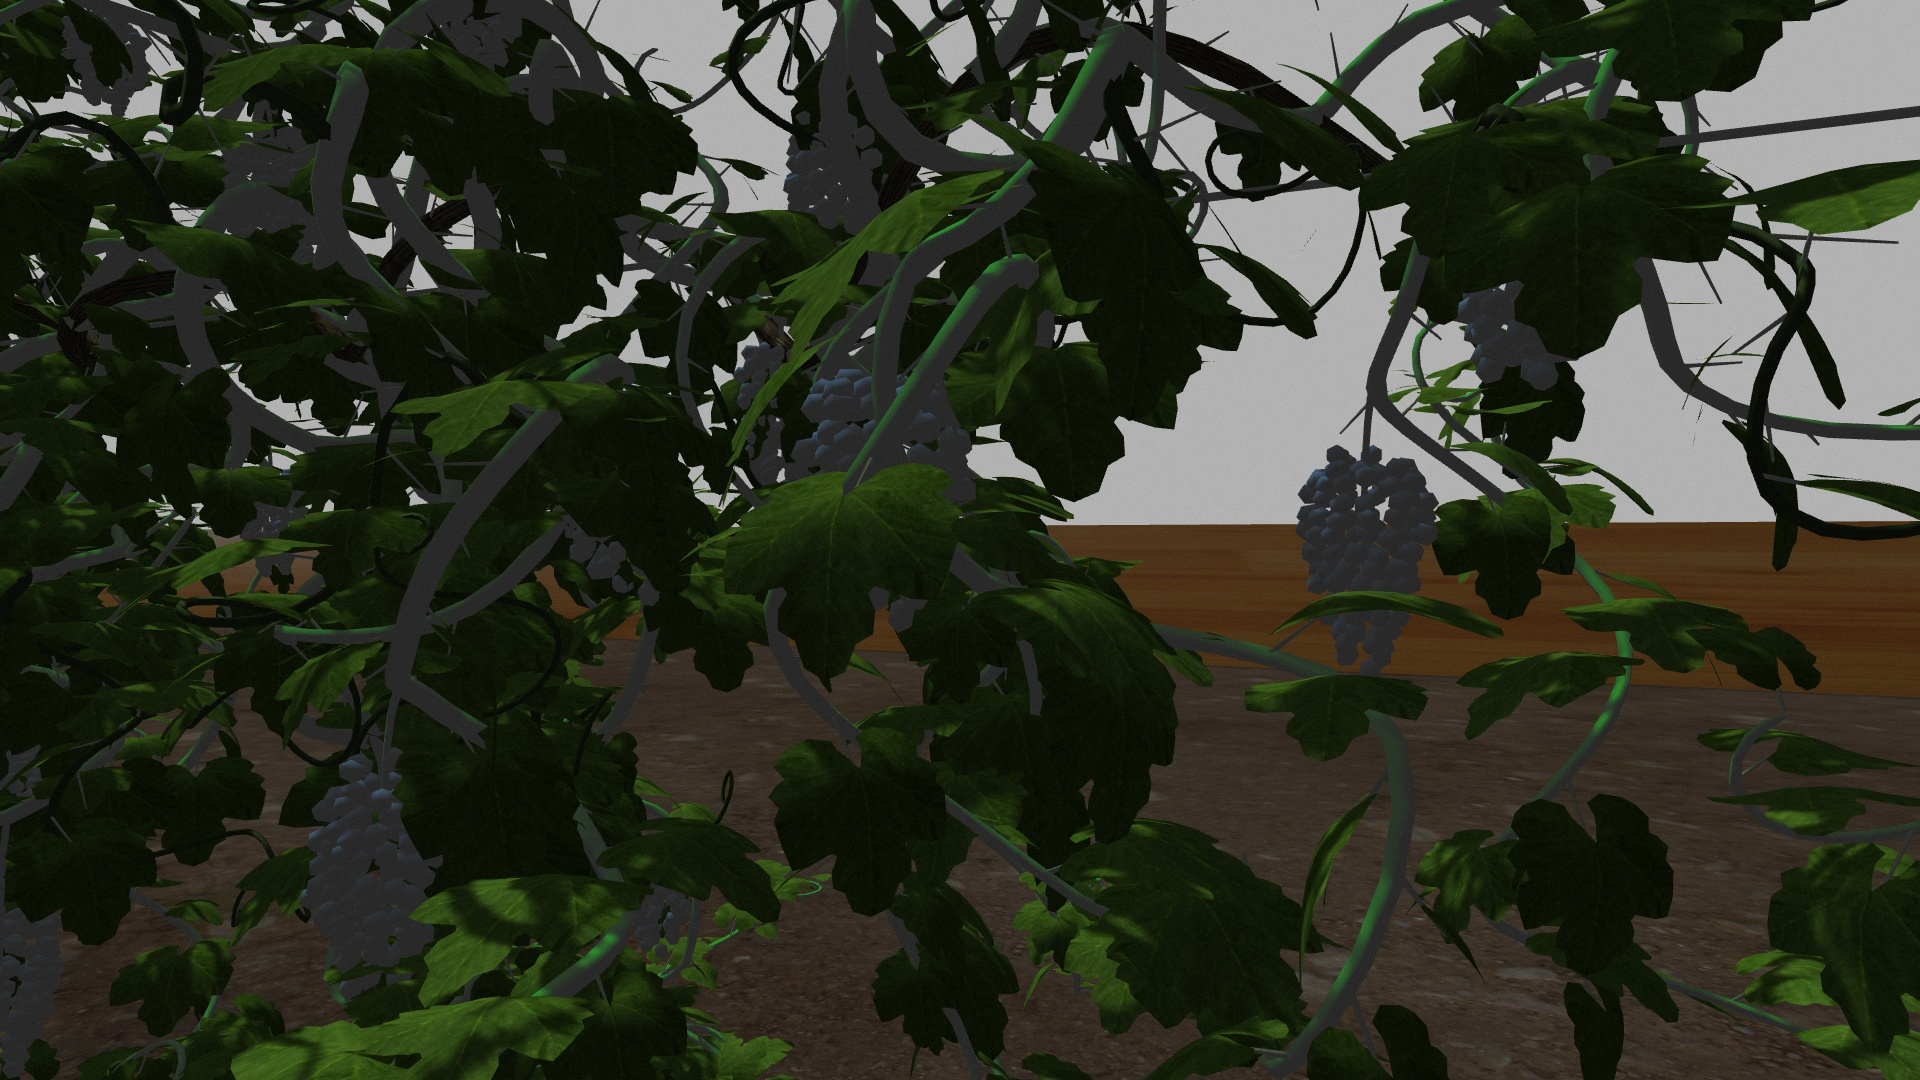grape: (1295, 440, 1441, 683), (309, 752, 439, 993), (793, 359, 976, 480), (1458, 269, 1569, 392), (781, 113, 882, 231)
